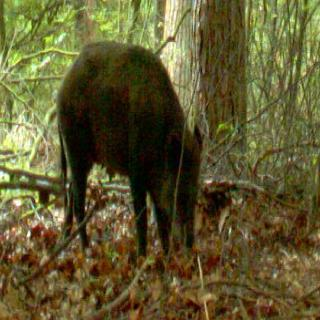Pig: (42, 24, 207, 295)
